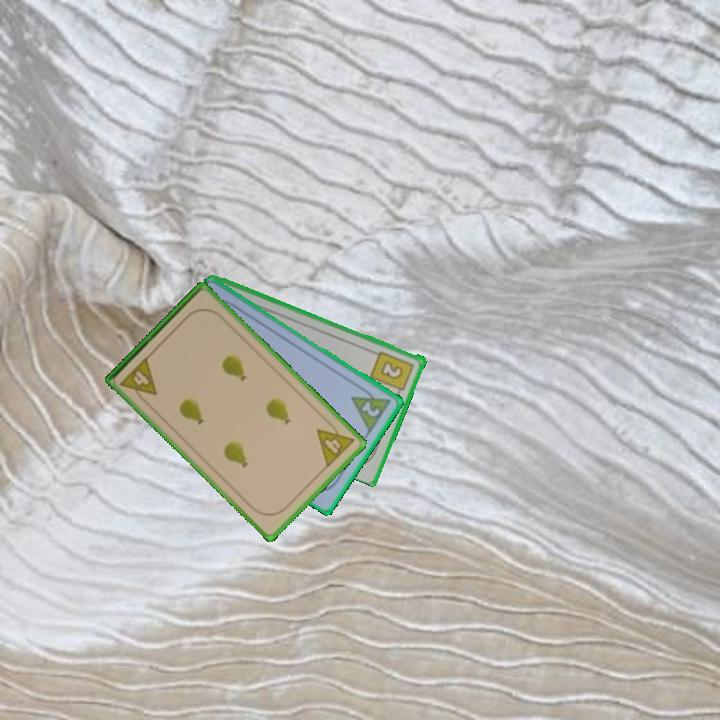2b: (367, 347, 417, 399)
2p: (348, 382, 394, 435)
4p: (313, 416, 358, 471), (117, 353, 160, 406)
